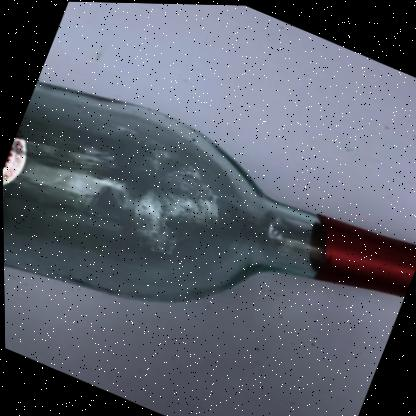Glass: (2, 81, 416, 301)
